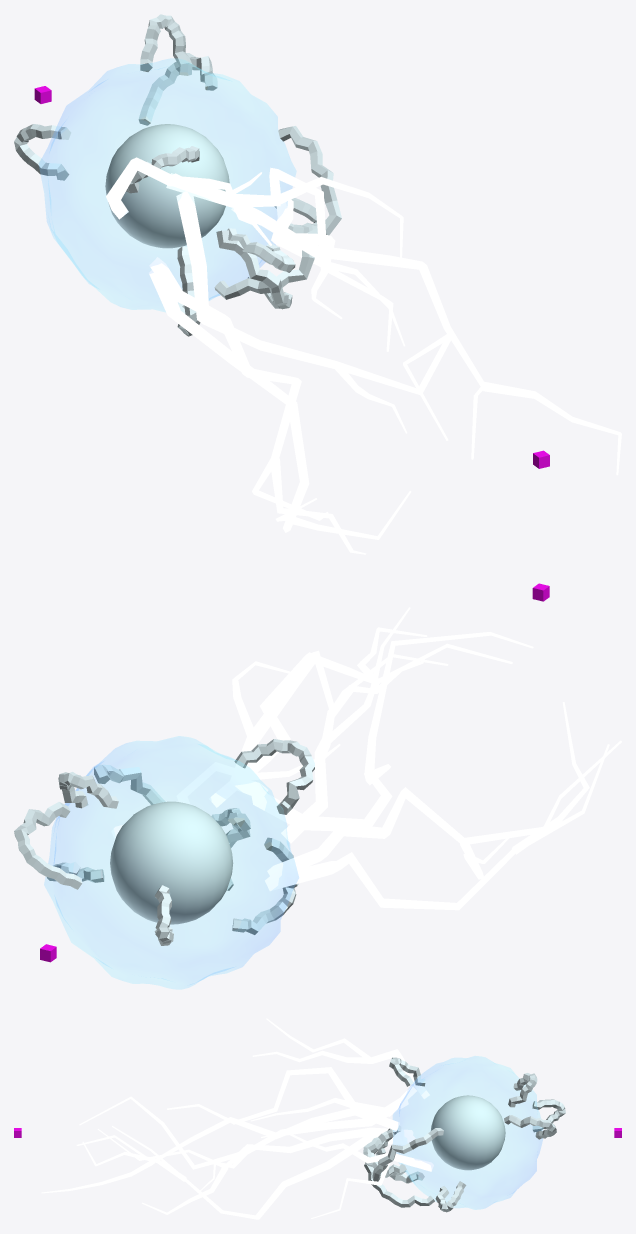
The model's file is ElectricBlast.fbx.
The picture shows the model from 3 angles, top to bottom: view 1: azimuth 30°, elevation 25°; view 2: azimuth 150°, elevation 25°; view 3: azimuth 270°, elevation 25°; orthographic projection. The views are drawn at different scales.
Parts seen in each view (by area): view 1: Sheath, Branches, Bolt, Core.002; view 2: Sheath, Branches, Core.002, Bolt; view 3: Sheath, Branches, Bolt, Core.002.
Part boxes in pixels (bbox=[...]): Sheath: bbox=[39, 58, 296, 311]; Branches: bbox=[106, 157, 621, 554]; Bolt: bbox=[14, 14, 341, 336]; Core.002: bbox=[105, 124, 229, 248]; Sheath: bbox=[44, 736, 298, 989]; Branches: bbox=[111, 607, 621, 910]; Core.002: bbox=[110, 801, 233, 924]; Bolt: bbox=[14, 739, 314, 945]; Sheath: bbox=[393, 1056, 543, 1209]; Branches: bbox=[41, 1018, 433, 1219]; Bolt: bbox=[363, 1057, 565, 1212]; Core.002: bbox=[431, 1095, 505, 1170].
Bounding box in the file's own units: 2.76 × 2.93 × 8.1.
